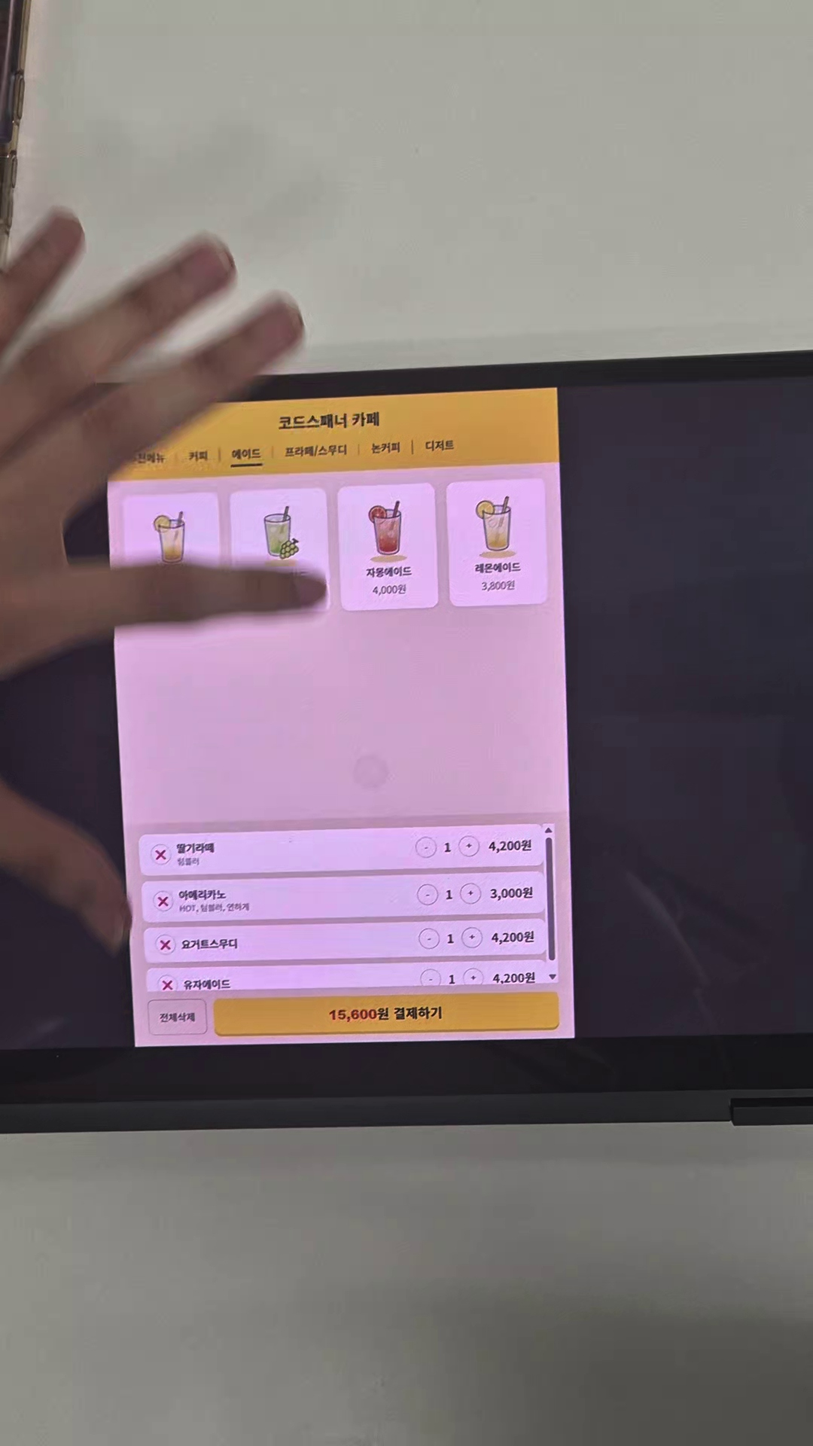action_button: (214, 994, 559, 1035), (150, 1001, 208, 1035)
cart_item: (140, 871, 549, 922), (136, 824, 544, 874), (144, 918, 549, 964), (145, 961, 545, 996)
category_tab: (278, 437, 350, 463), (116, 442, 169, 474), (363, 437, 407, 465), (423, 433, 464, 457), (182, 448, 217, 474), (225, 443, 266, 464)
menu_back: (446, 476, 552, 605), (336, 482, 441, 611), (228, 487, 329, 621), (125, 493, 222, 627)
menu_name: (362, 561, 415, 581), (471, 559, 525, 578)
menu_price: (474, 580, 528, 599), (368, 581, 414, 600)
